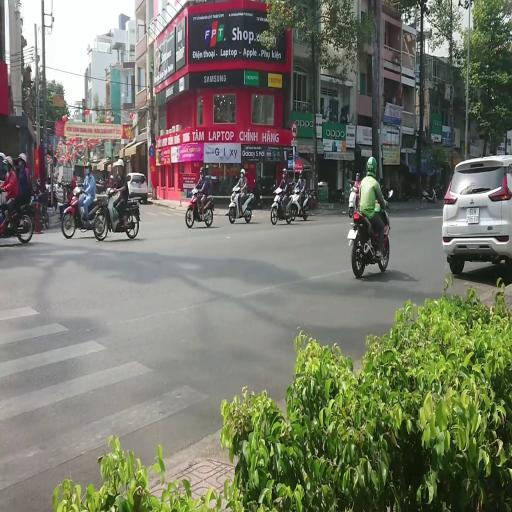bikes: (348, 188, 393, 277), (61, 183, 107, 239), (93, 187, 141, 240), (0, 187, 35, 243), (185, 188, 214, 228), (228, 186, 255, 224), (286, 186, 314, 221), (270, 184, 292, 224), (30, 186, 49, 230), (54, 177, 72, 218), (247, 178, 263, 208), (347, 181, 360, 217), (422, 187, 437, 203), (95, 178, 109, 193)
helmet: (366, 156, 377, 176), (294, 157, 303, 174), (112, 163, 118, 180), (18, 153, 26, 164), (85, 162, 92, 174), (5, 156, 13, 166), (71, 177, 77, 188), (0, 151, 6, 161), (117, 159, 124, 167), (73, 187, 80, 195), (282, 168, 288, 176), (199, 166, 205, 174), (36, 174, 40, 186), (192, 188, 198, 195), (112, 161, 118, 168), (86, 161, 92, 168), (240, 168, 245, 176), (356, 172, 360, 182), (85, 167, 90, 175), (299, 170, 303, 178), (72, 171, 76, 176), (273, 184, 276, 190), (110, 174, 113, 178)
